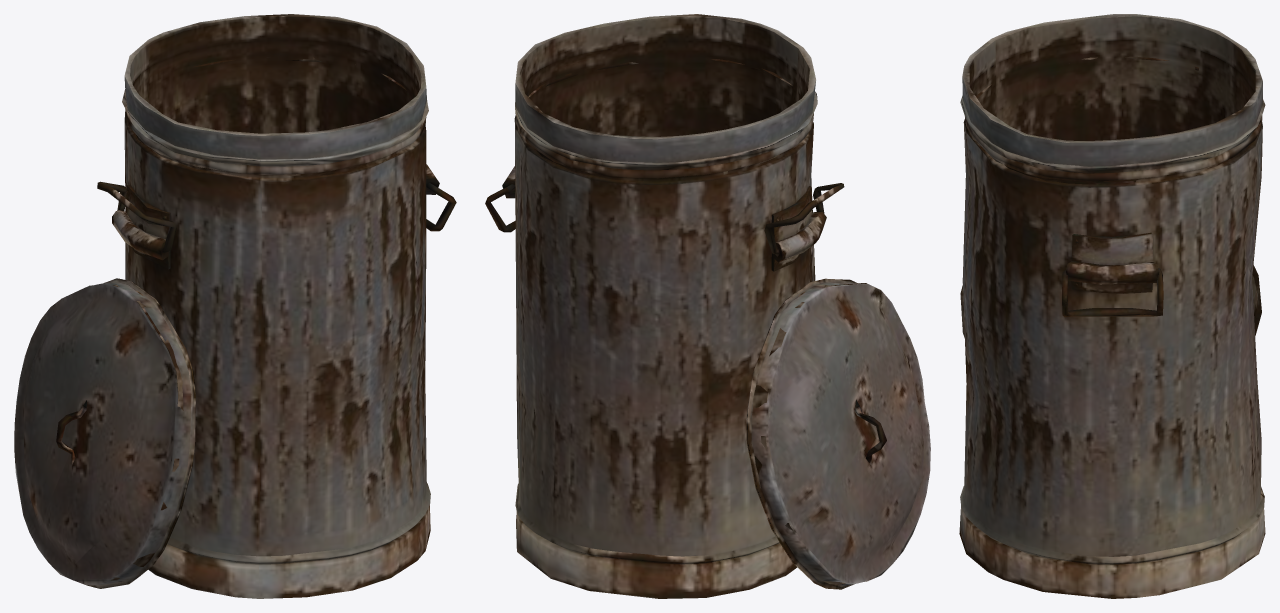
File: trash_can_rusty.glb
The picture shows the model from 3 angles, left to right: view 1: azimuth 30°, elevation 25°; view 2: azimuth 150°, elevation 25°; view 3: azimuth 270°, elevation 25°; orthographic projection.
Visible parts, largest first — view 1: metal_trash_can_rust; view 2: metal_trash_can_rust; view 3: metal_trash_can_rust.
Part boxes in pixels (box(x1,y1,x2,y2)): metal_trash_can_rust: box(14, 14, 456, 598); metal_trash_can_rust: box(485, 14, 930, 598); metal_trash_can_rust: box(959, 14, 1265, 598).
Size of the model in its own units: 0.7716 by 0.9062 by 0.5482.
Materials: 1 (1 with a texture image).
